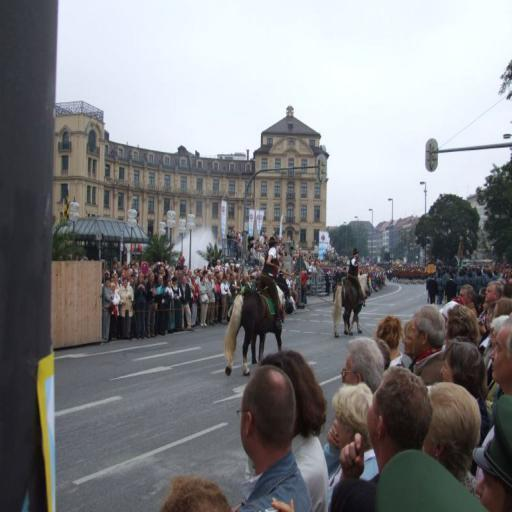horse: (226, 275, 292, 379), (330, 273, 372, 340)
